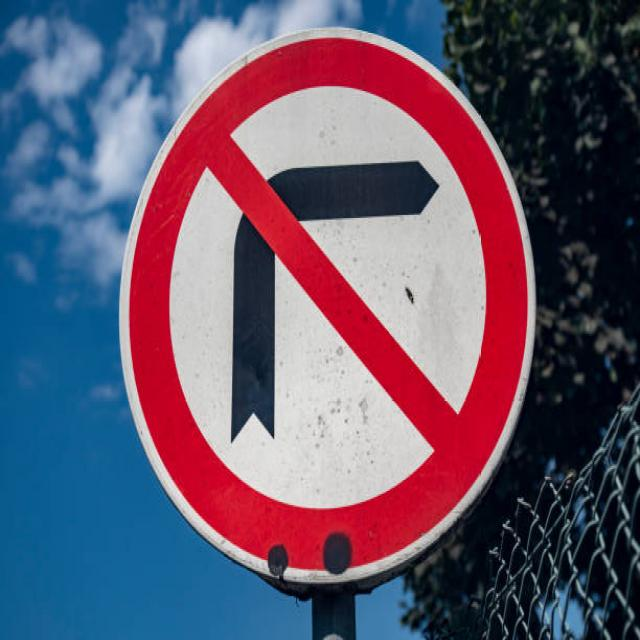do_not_turn_right: (118, 14, 540, 582)
